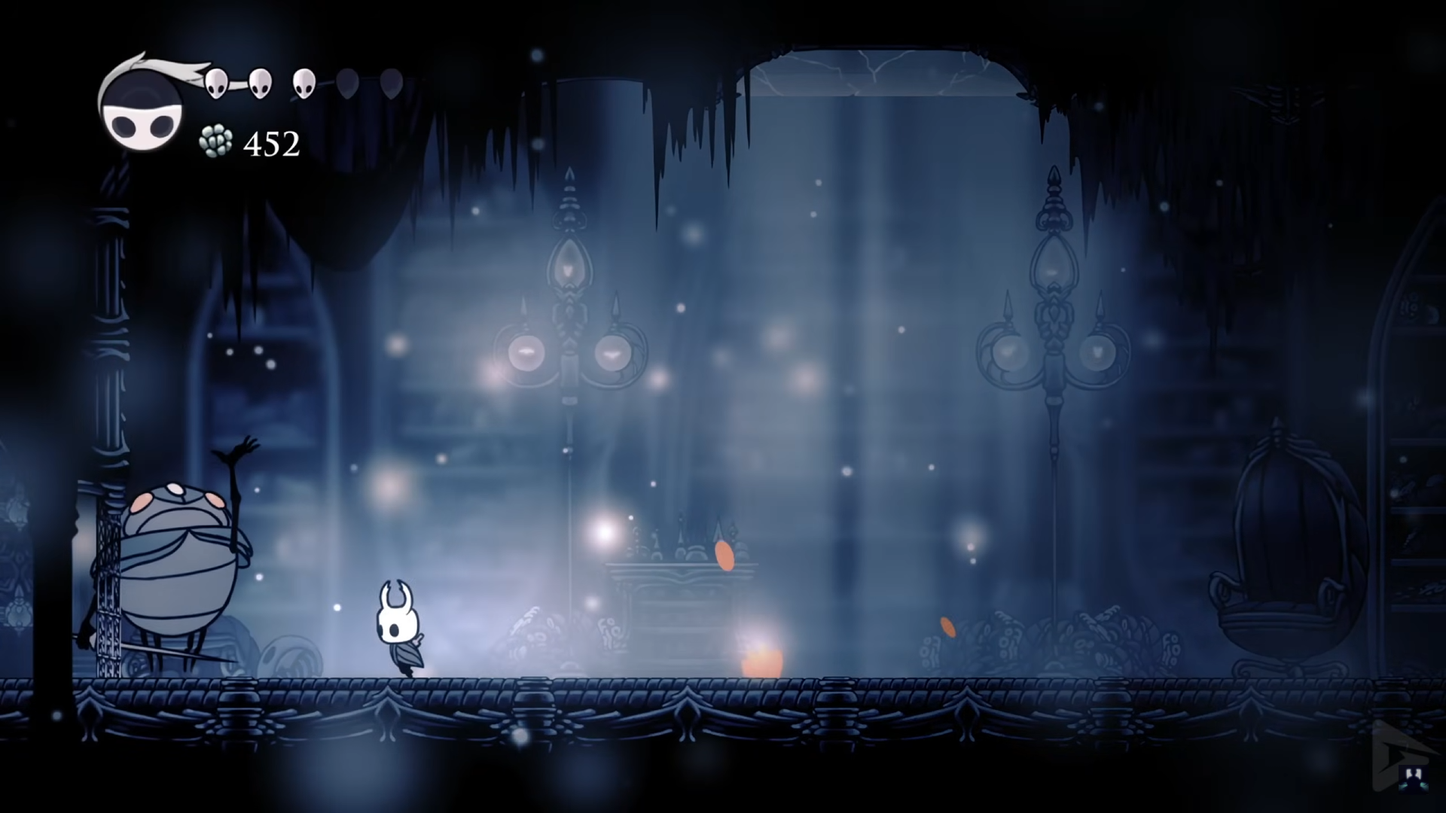HK: (372, 578, 433, 678)
